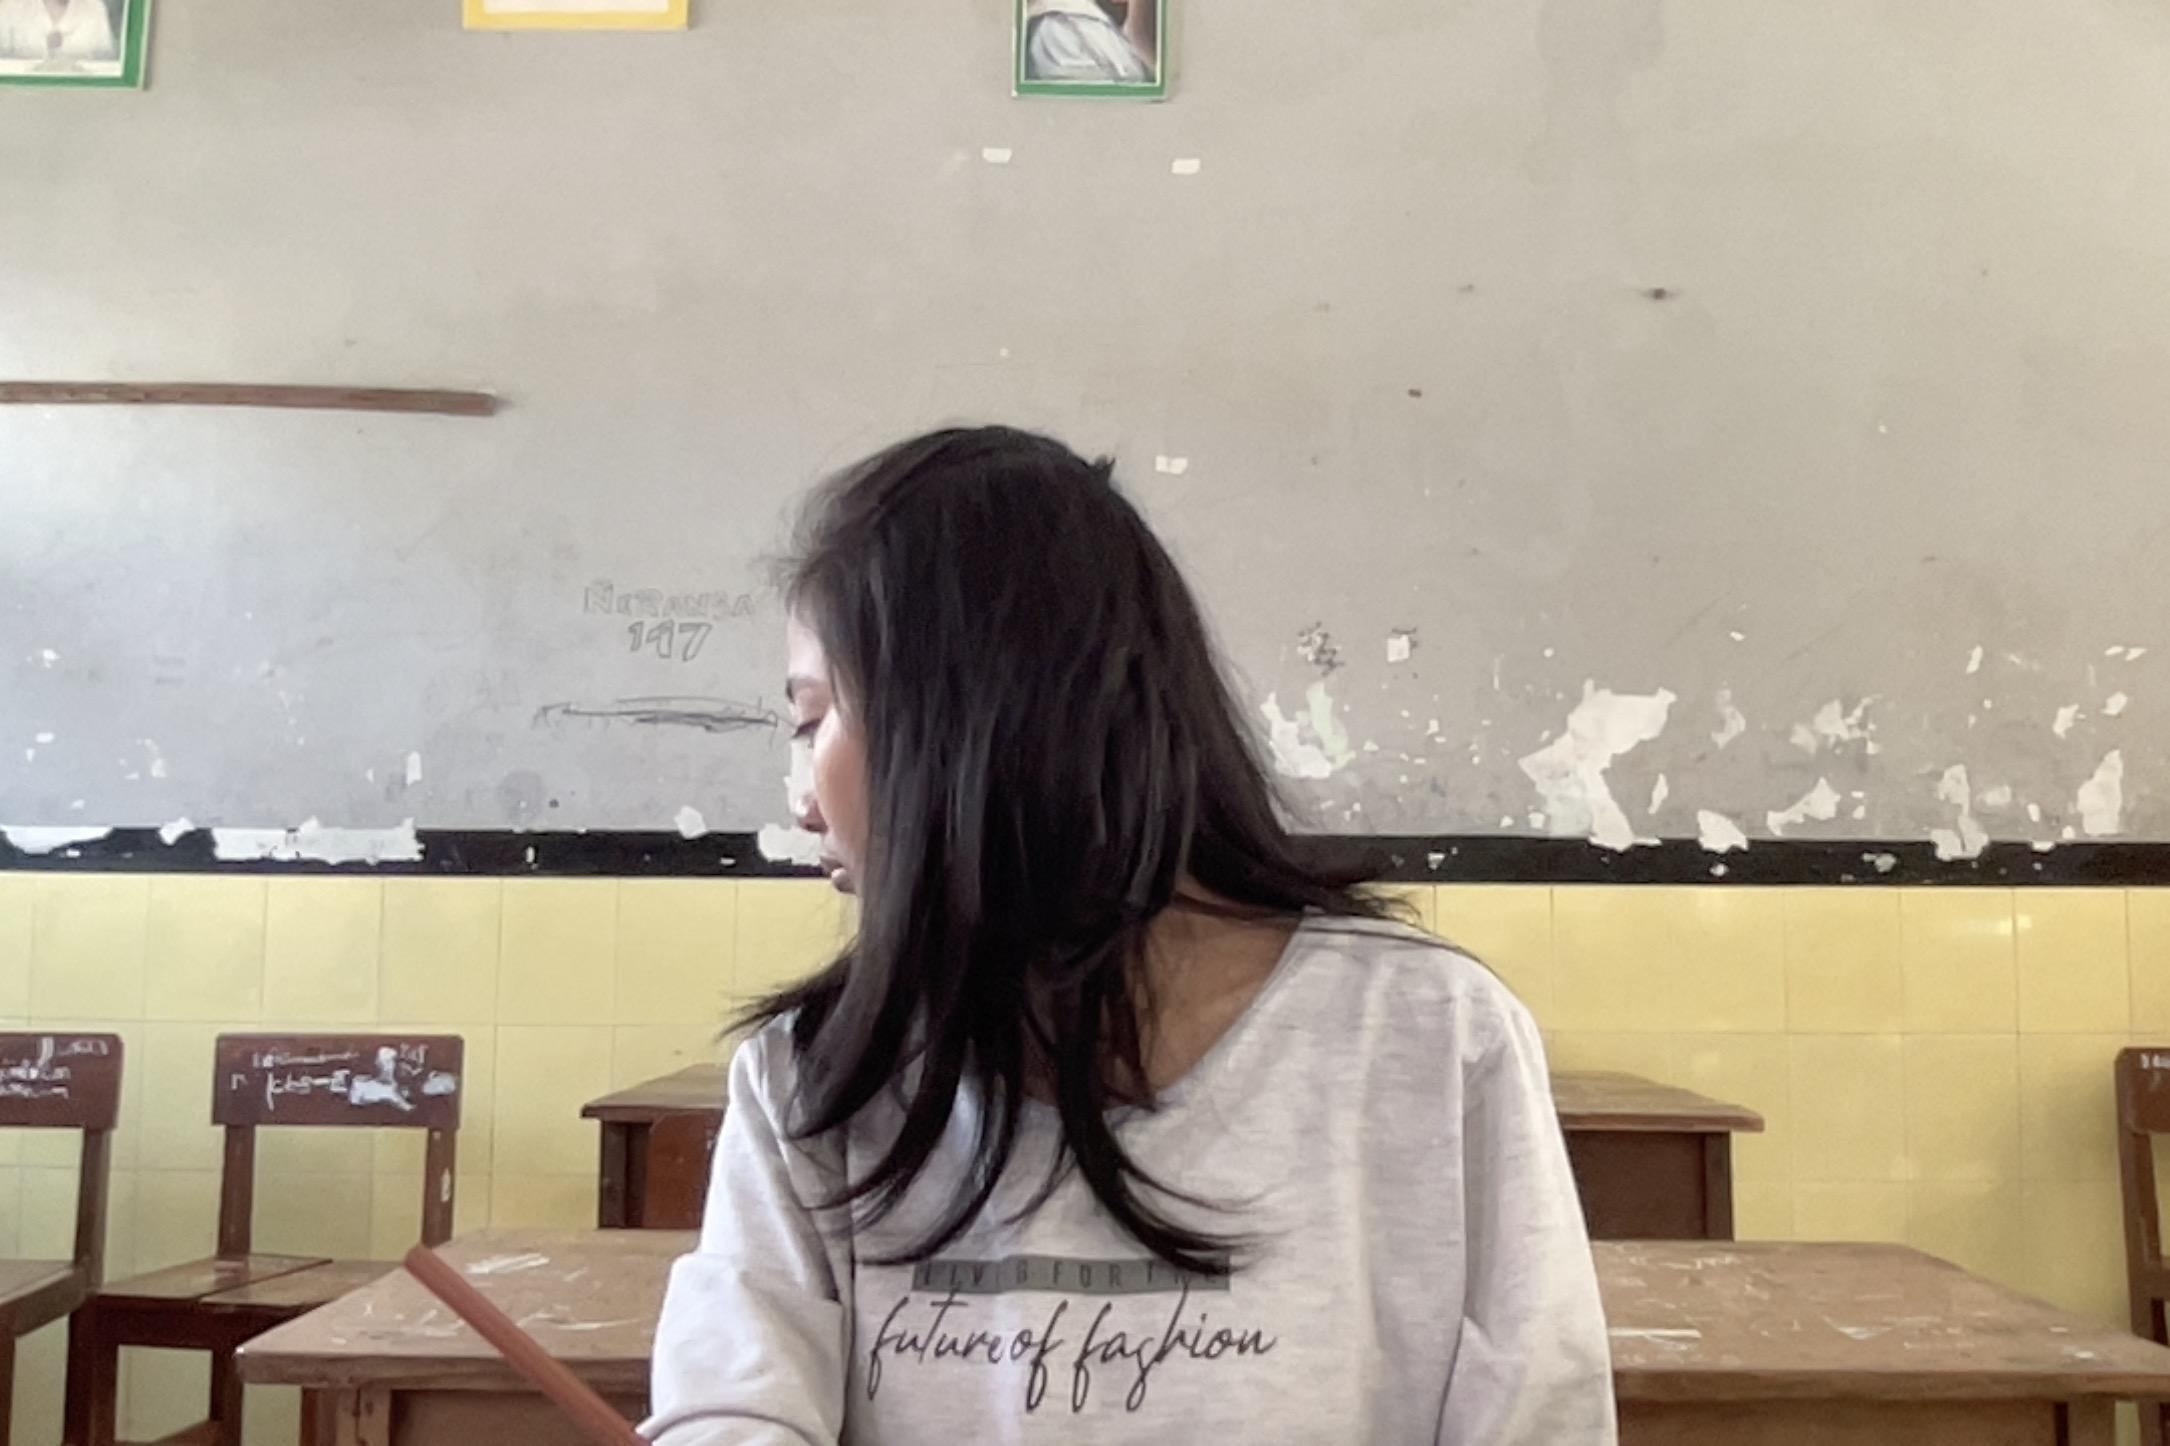cheating: (610, 321, 1688, 1446)
